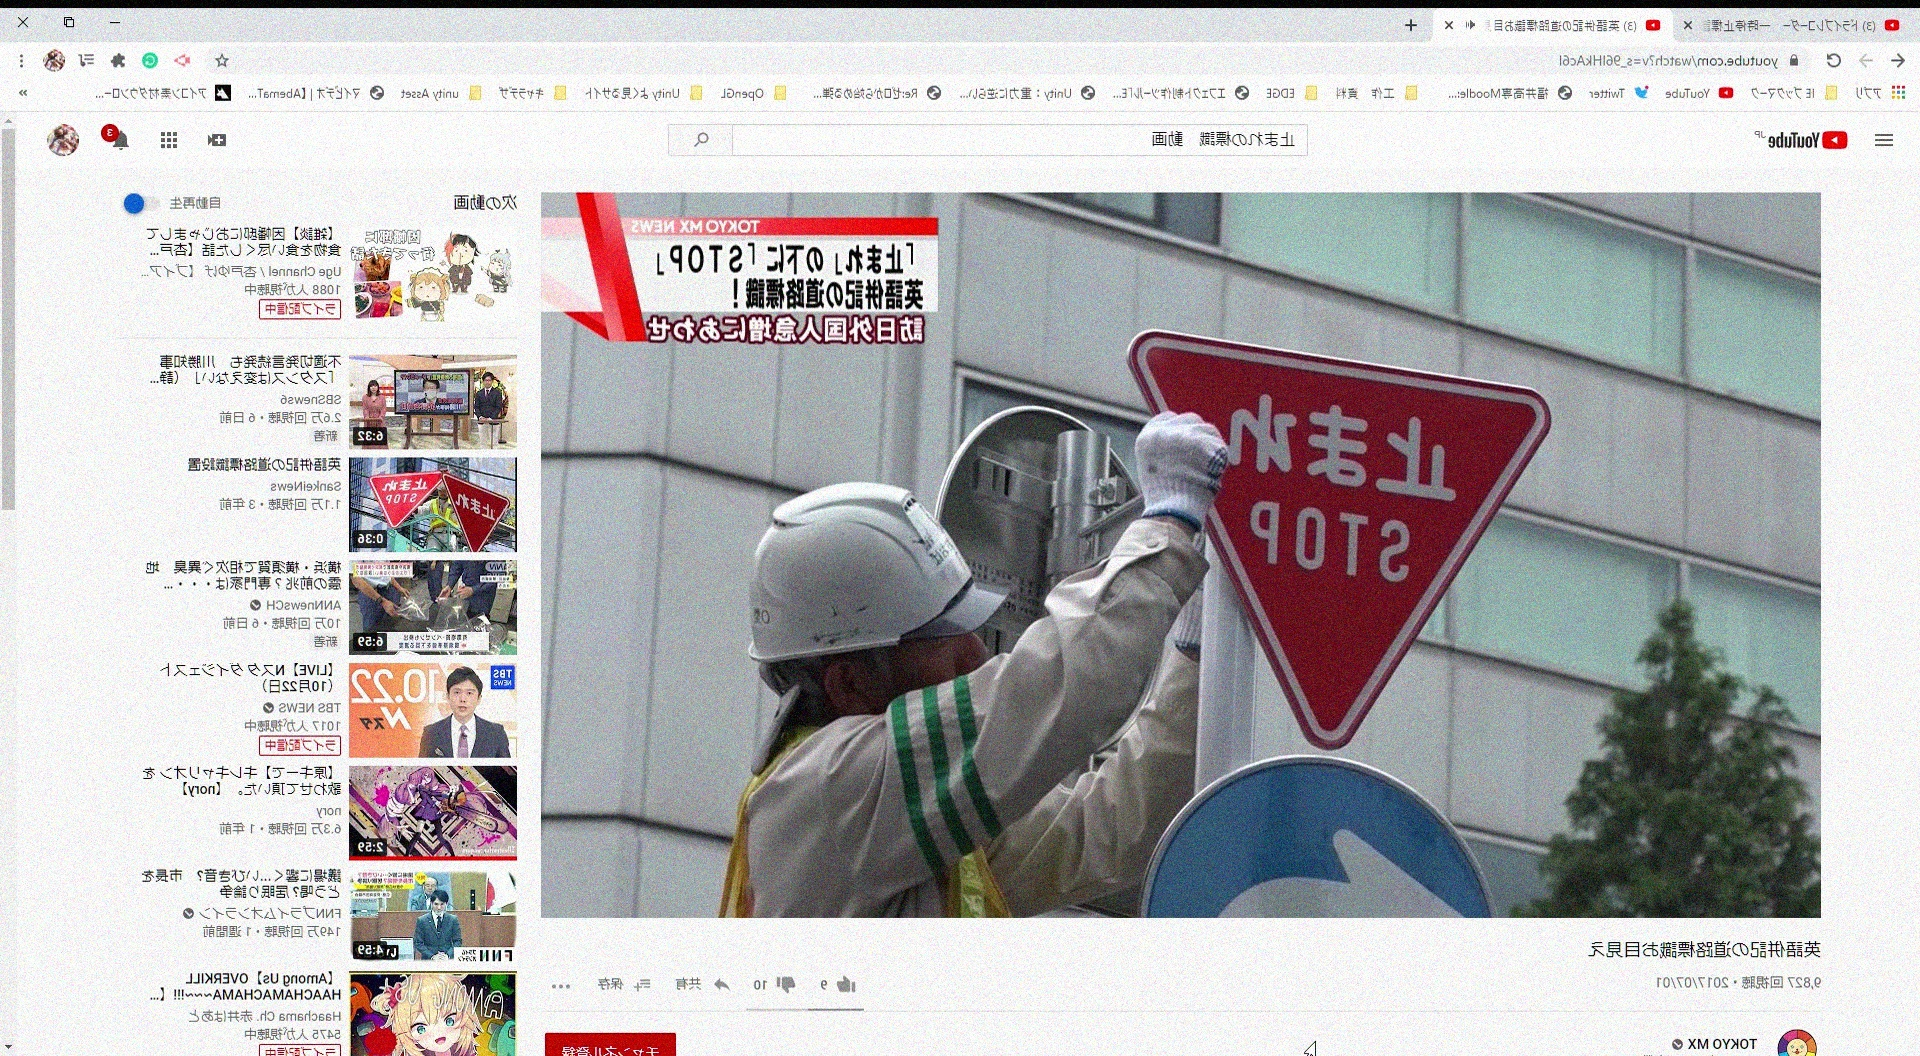Regulatory_sign_triangle: (1127, 315, 1611, 795)
